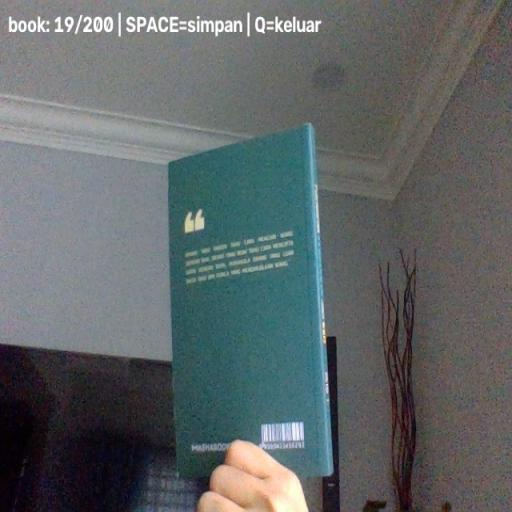Book: (169, 123, 333, 480)
